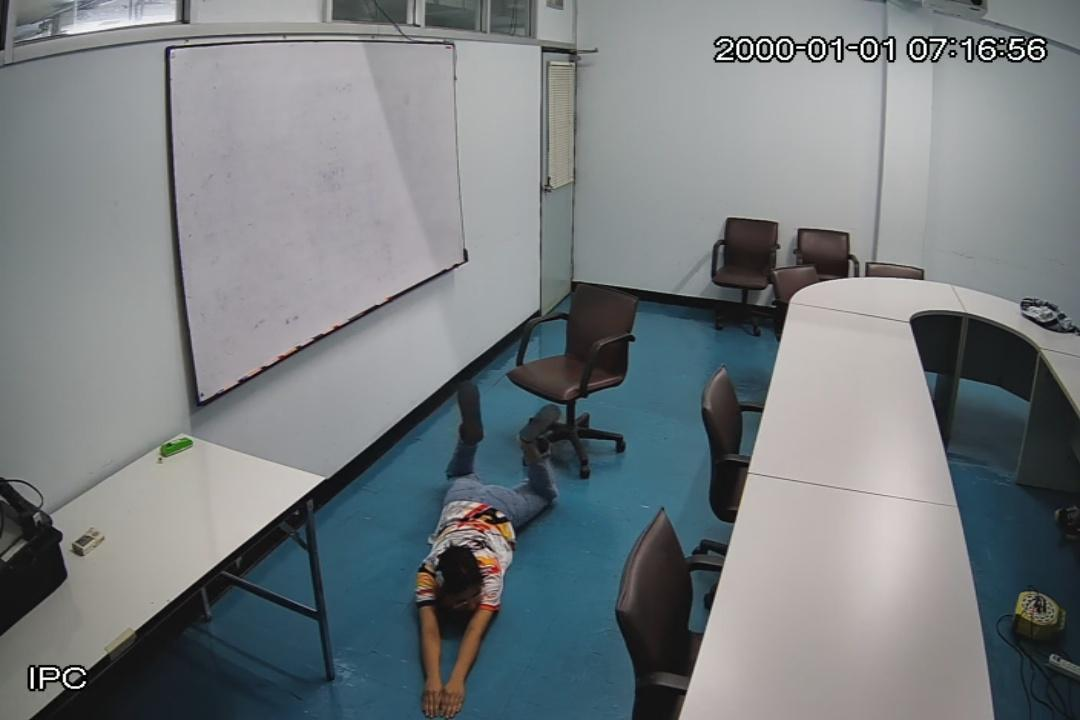fall: (408, 390, 562, 720)
